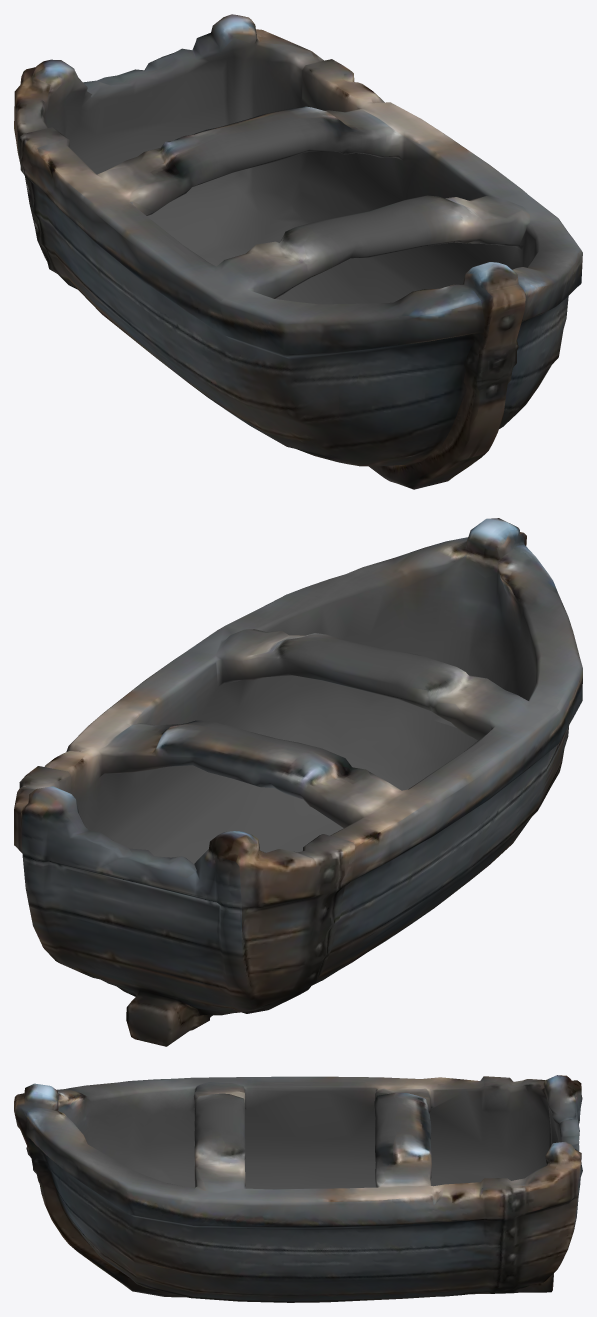
File: SM_Env_FrozenSkiff.glb
3 views of the same model, one above another, from view 1: azimuth 30°, elevation 25°; view 2: azimuth 150°, elevation 25°; view 3: azimuth 270°, elevation 25° (orthographic). The views are drawn at different scales.
Visible parts, largest first — view 1: SM_Env_FrozenSkiff_LOD0; view 2: SM_Env_FrozenSkiff_LOD0; view 3: SM_Env_FrozenSkiff_LOD0.
Boxes of the visible parts, box(x1,y1,x2,y2) form: SM_Env_FrozenSkiff_LOD0: box(14, 14, 582, 489); SM_Env_FrozenSkiff_LOD0: box(14, 518, 582, 1046); SM_Env_FrozenSkiff_LOD0: box(14, 1075, 582, 1302).
Bounding box in the file's own units: 2.03 × 1.54 × 3.85.
1 material, 1 textured.
